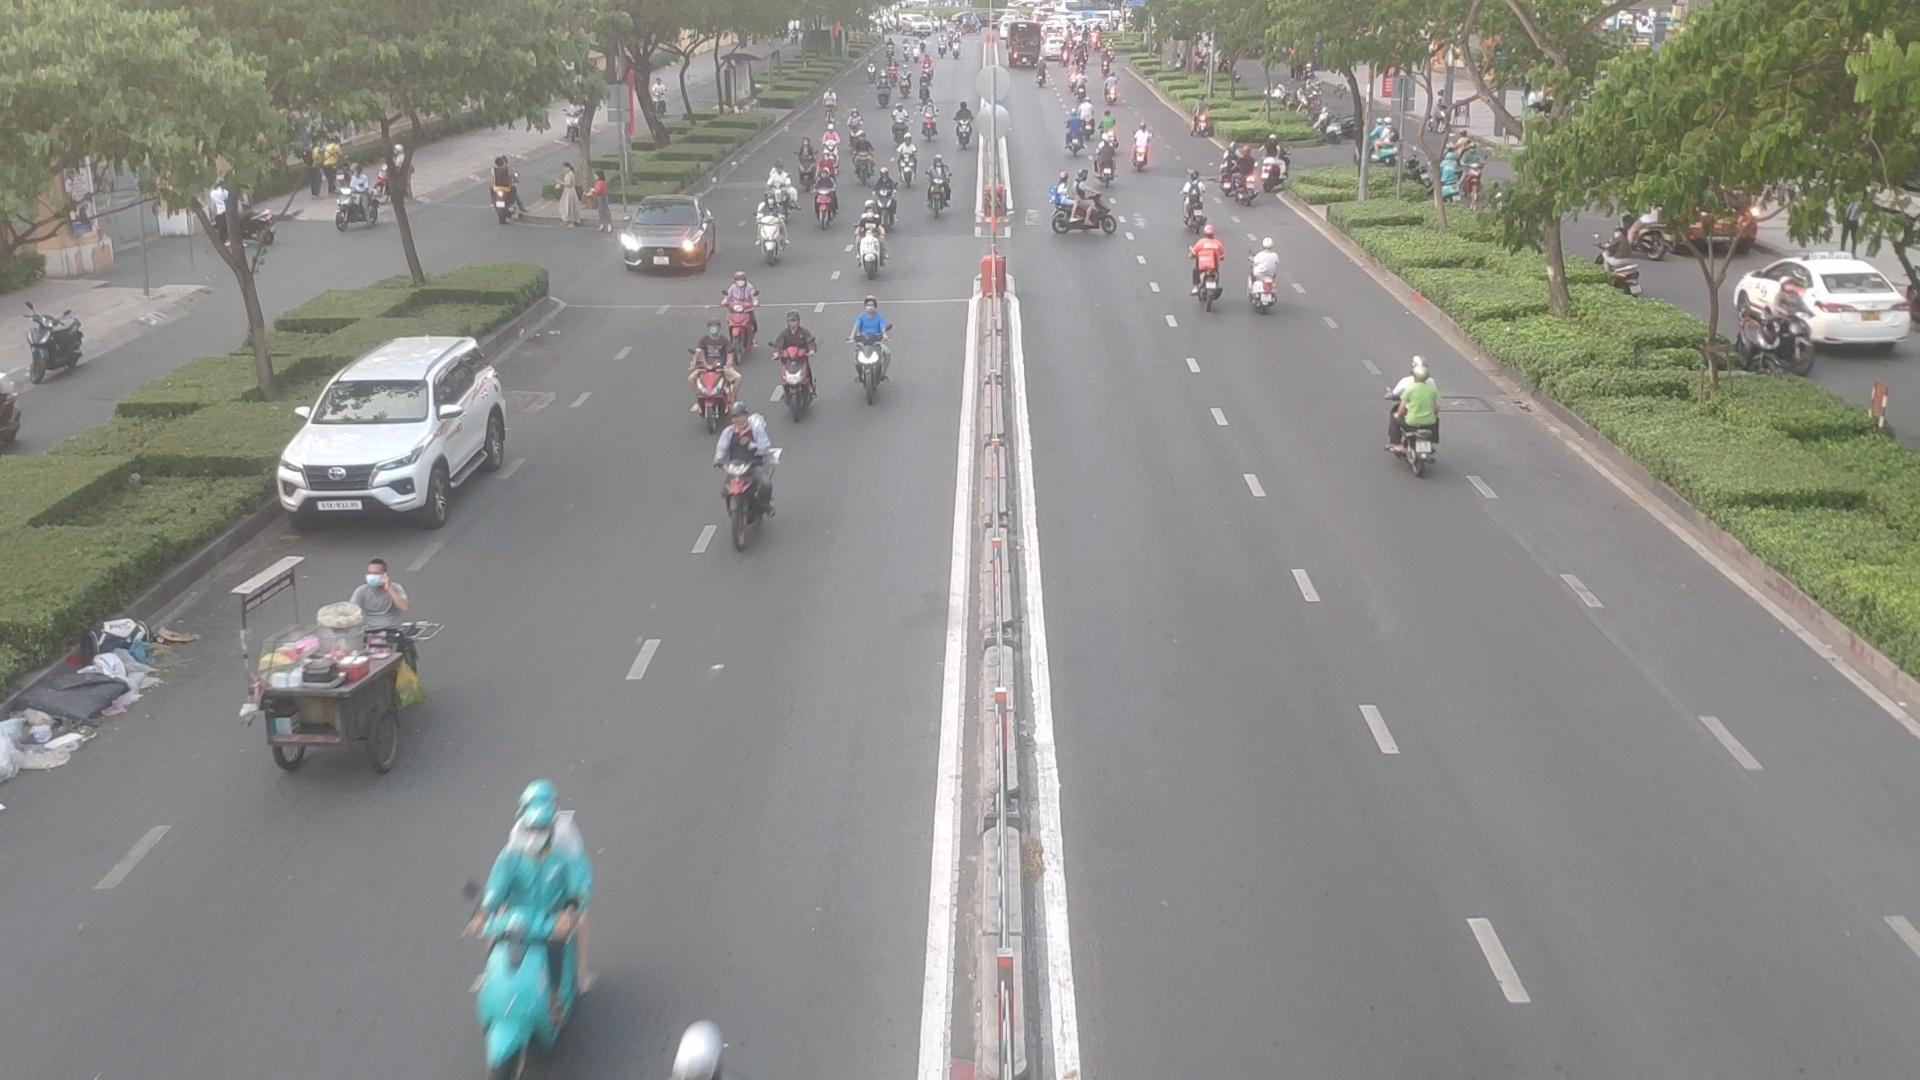car: (281, 331, 524, 524), (612, 198, 723, 278)
motorbike: (458, 794, 613, 1076), (711, 410, 783, 541), (1375, 367, 1449, 472), (683, 323, 741, 422), (844, 297, 897, 402), (775, 313, 828, 415), (708, 272, 767, 353), (1050, 186, 1124, 241), (1245, 236, 1288, 309), (1185, 232, 1226, 309), (849, 214, 890, 276), (753, 210, 787, 265), (1182, 166, 1209, 231), (762, 166, 796, 212), (814, 175, 843, 227), (926, 165, 953, 218), (1131, 124, 1160, 171), (1063, 113, 1089, 156), (1091, 142, 1117, 185)
